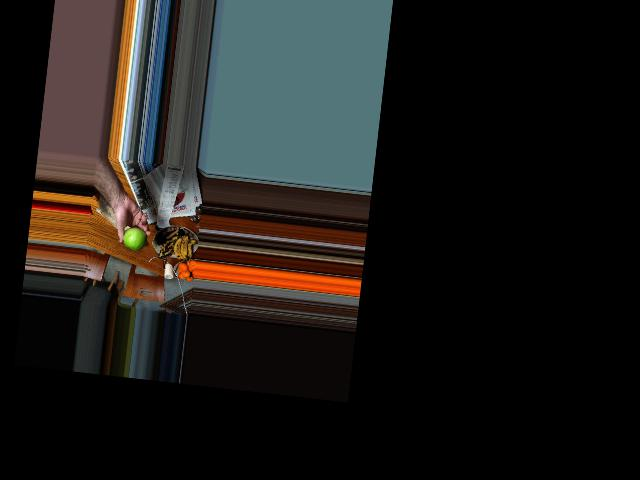apple: (121, 223, 149, 253)
